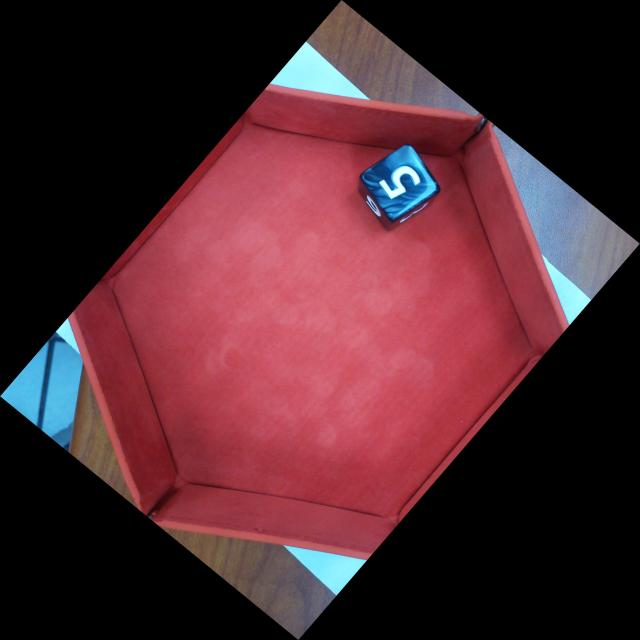dice: (358, 139, 441, 225)
